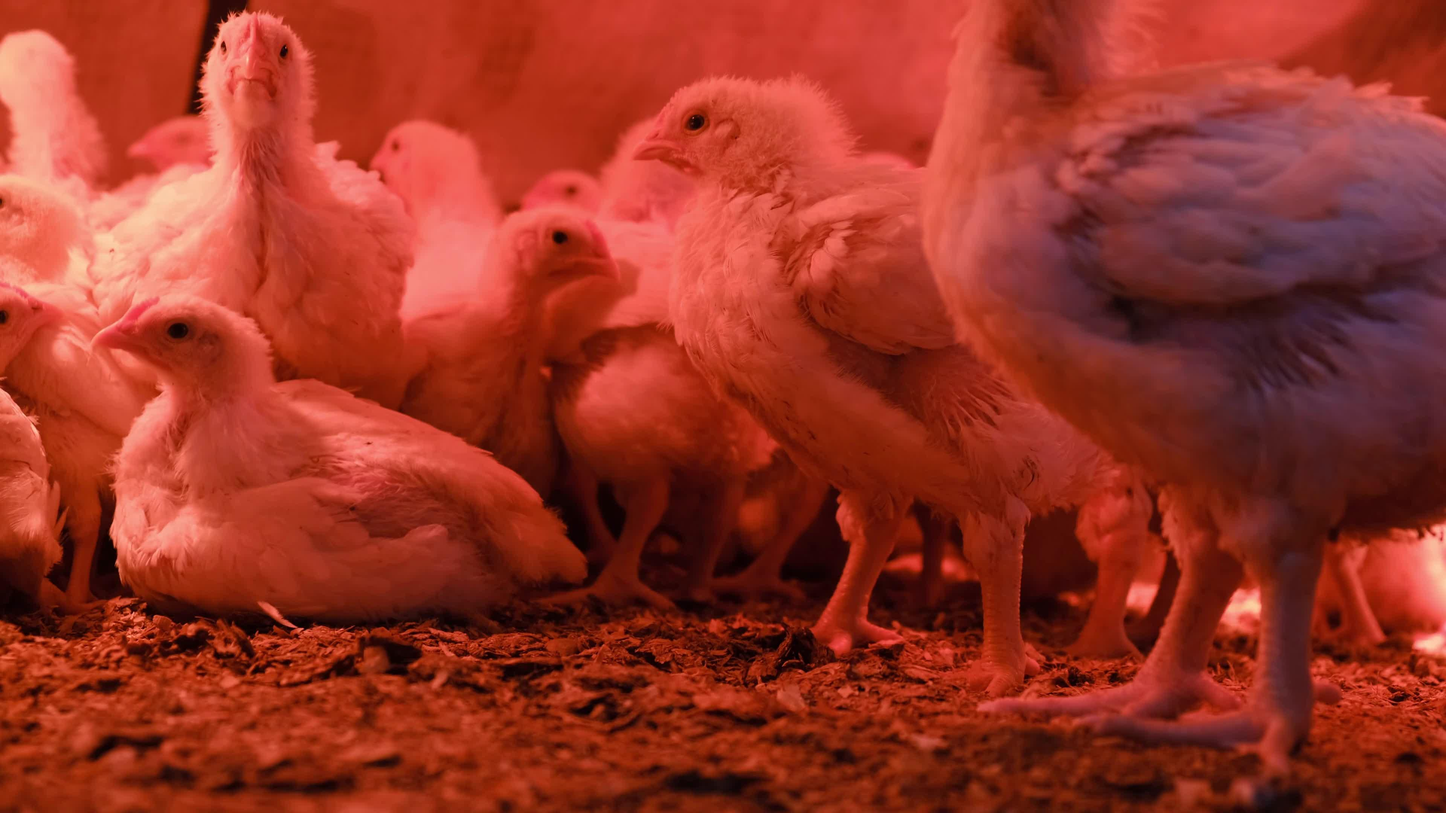AbNormal: (53, 267, 584, 657), (0, 252, 164, 598)
Normal: (926, 0, 1444, 813), (618, 66, 1103, 674), (92, 2, 444, 376), (382, 213, 653, 465), (329, 104, 555, 382), (0, 21, 192, 280)
